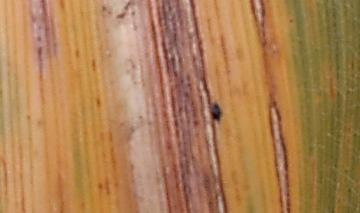tarspot: (209, 100, 223, 123), (114, 11, 127, 23), (35, 46, 45, 61), (121, 1, 133, 10), (287, 17, 295, 25), (99, 3, 106, 11)
